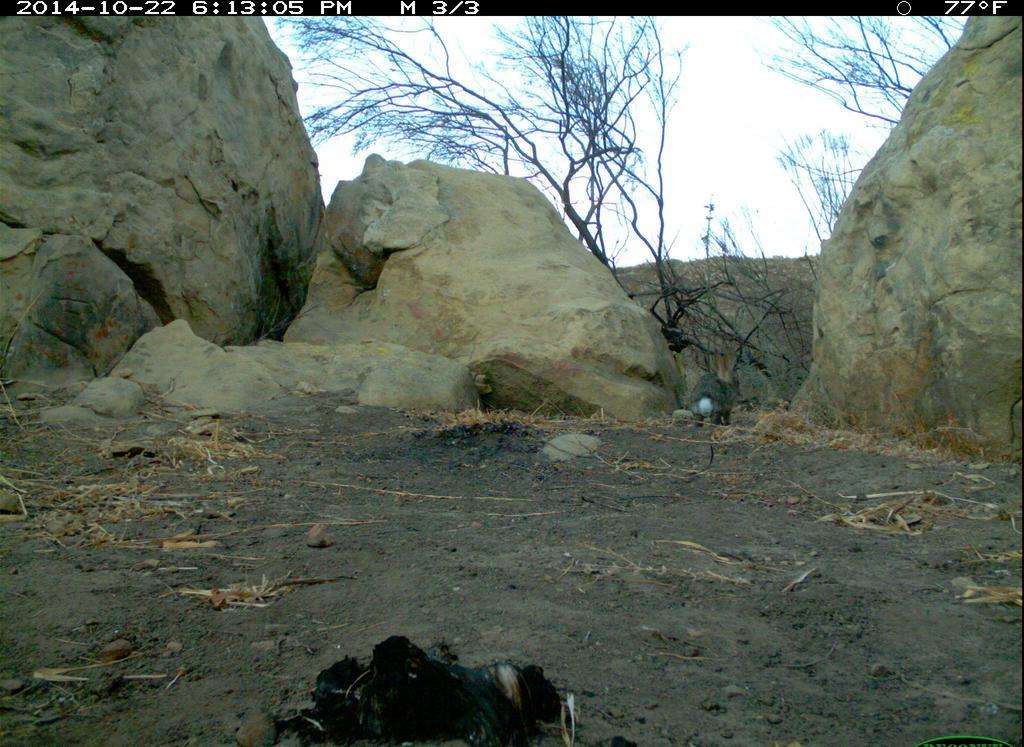rabbit: (685, 347, 746, 437)
